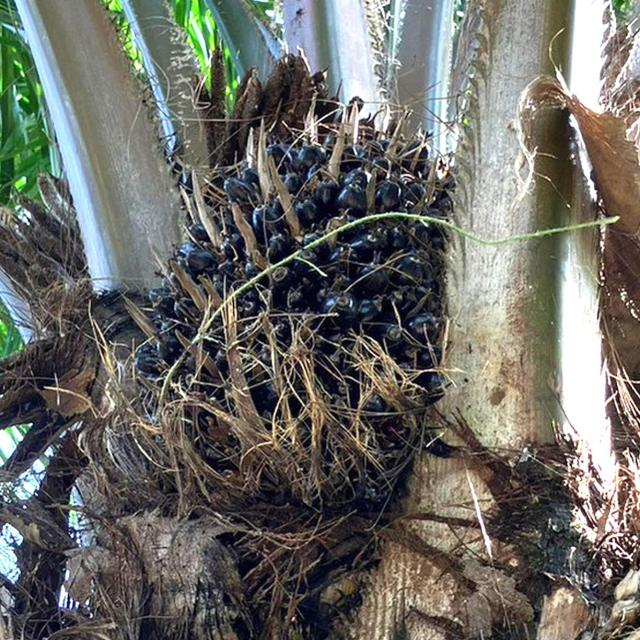unripe: (113, 85, 456, 525)
